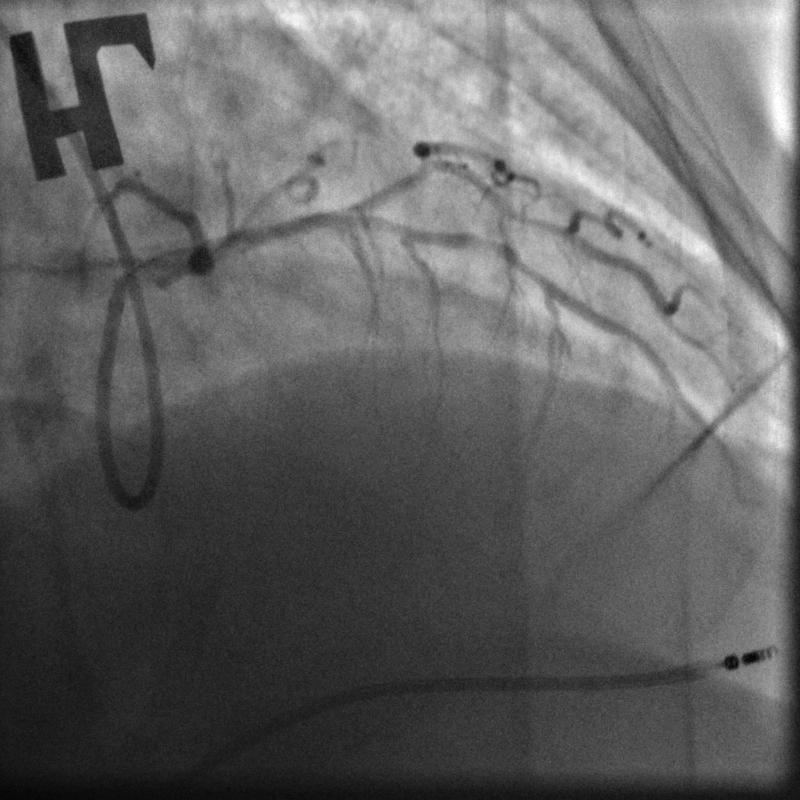Stenosis: (456, 228, 518, 266)
